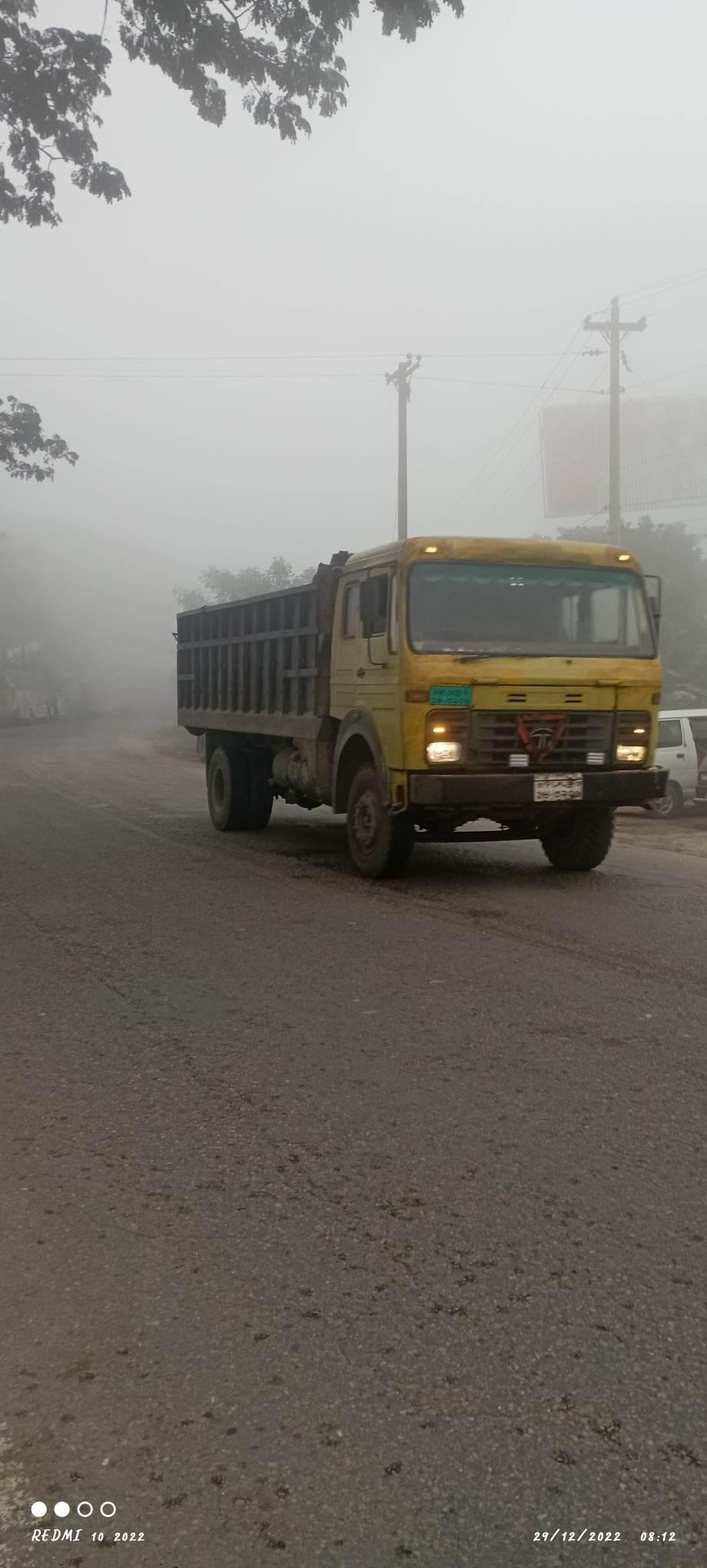Truck: (131, 523, 676, 887)
